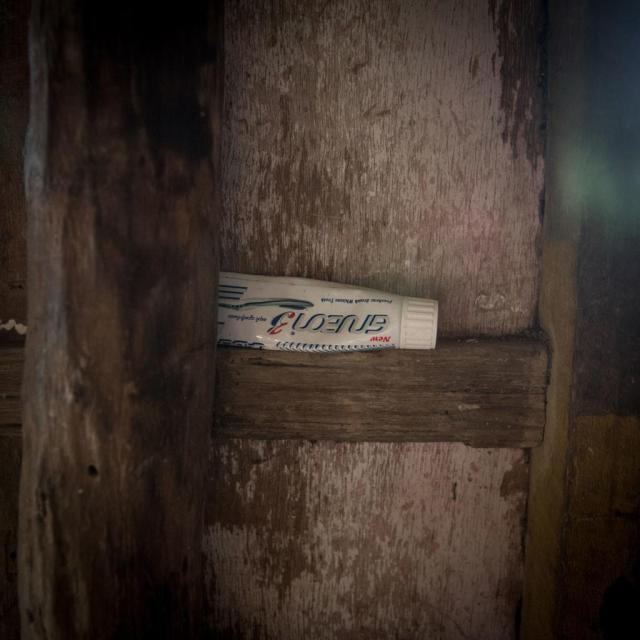Toothpaste: (184, 267, 441, 357)
